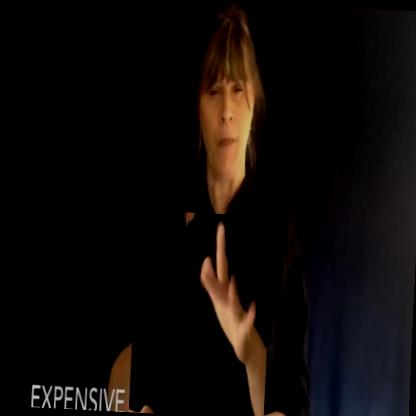Expensive: (126, 209, 273, 416)
